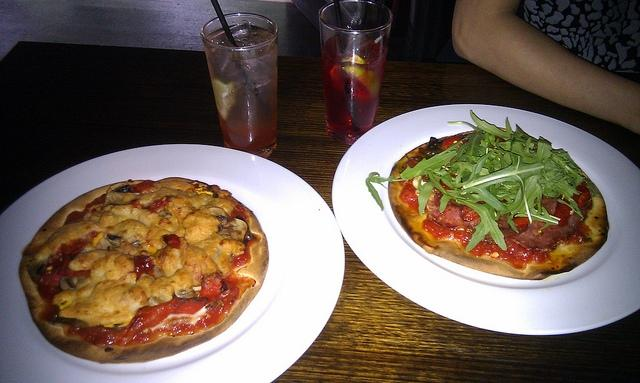lemon: (341, 54, 381, 98), (211, 77, 237, 121)
